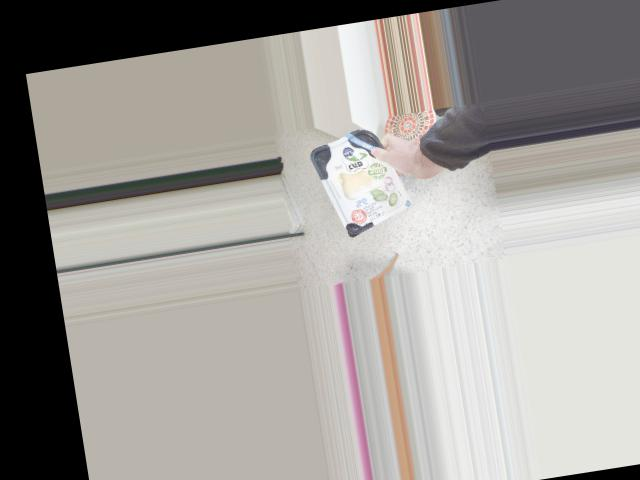cheese: (306, 123, 413, 242)
